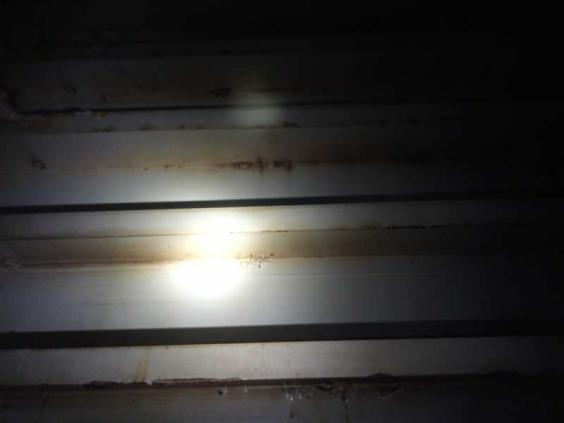corrosion: (14, 242, 199, 272), (213, 150, 339, 179), (209, 75, 301, 105), (152, 151, 208, 177), (14, 133, 49, 170), (128, 347, 154, 380)
